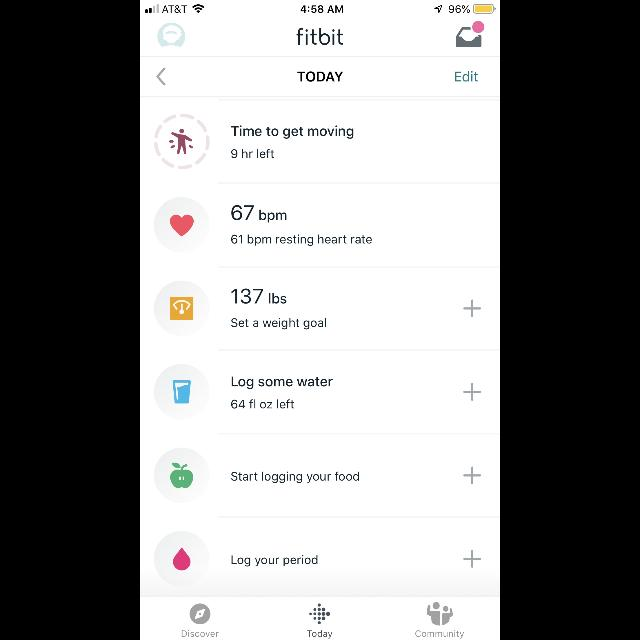icon: (154, 197, 210, 253), (190, 604, 210, 624), (463, 550, 481, 568), (463, 466, 481, 484), (463, 383, 481, 401), (463, 299, 481, 317), (157, 68, 166, 86)
image: (154, 531, 210, 587), (154, 448, 210, 504), (154, 364, 210, 420), (154, 114, 210, 170), (154, 282, 210, 336), (158, 22, 186, 48), (456, 21, 484, 47), (427, 602, 453, 626), (310, 604, 330, 624)
text: (232, 234, 372, 246), (231, 125, 353, 138), (231, 471, 359, 483), (232, 376, 332, 389), (232, 318, 326, 330), (232, 555, 318, 567), (232, 205, 286, 223), (232, 288, 286, 304), (297, 28, 343, 46), (232, 399, 294, 409), (298, 72, 342, 82), (416, 630, 464, 638), (232, 150, 274, 158), (454, 70, 478, 82), (182, 630, 218, 636), (308, 630, 332, 638)
uppertaskbar: (140, 0, 500, 14)
